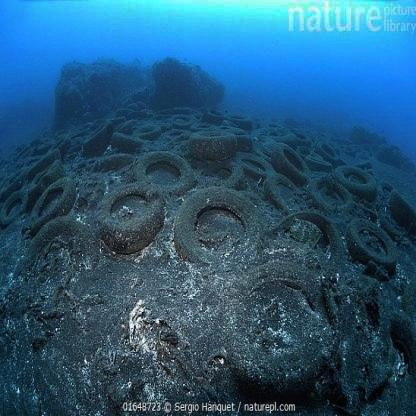tire: (230, 262, 327, 382), (173, 187, 260, 262), (96, 186, 171, 254), (20, 221, 99, 271), (278, 214, 334, 266), (25, 178, 81, 228), (1, 132, 61, 178), (126, 147, 188, 190), (346, 219, 393, 268), (180, 122, 240, 158), (378, 181, 411, 239), (224, 141, 271, 174), (190, 154, 237, 186), (334, 160, 370, 198), (260, 170, 294, 209), (314, 172, 347, 212), (272, 134, 306, 172), (102, 126, 138, 158), (78, 118, 107, 151), (312, 137, 343, 163), (203, 105, 231, 131), (2, 193, 27, 218), (138, 115, 166, 137)
